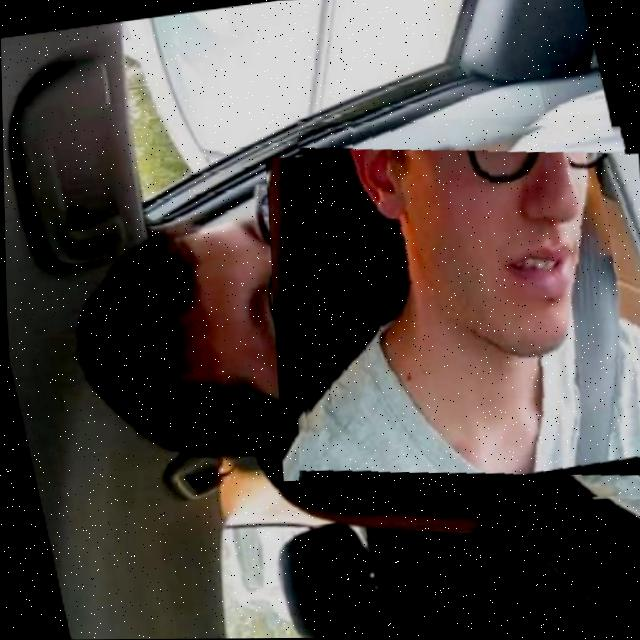seatbelt: (281, 111, 640, 508)
